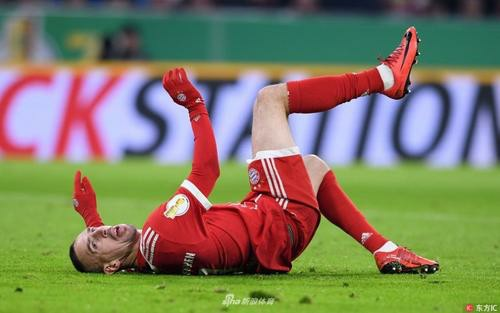fall: (52, 16, 445, 289)
